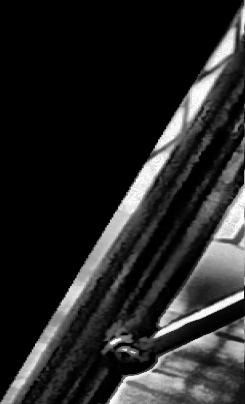obstacle: (1, 0, 244, 404)
